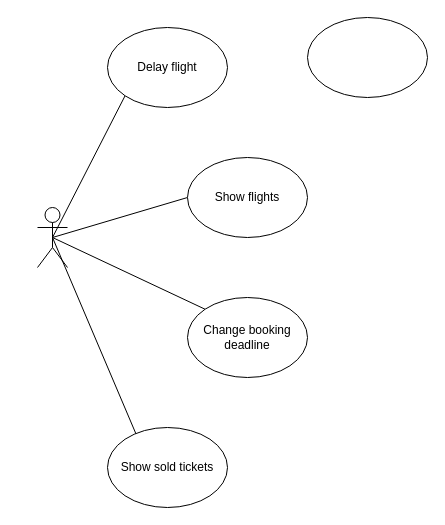
Image size: 445x525. Some labels were removed from this diagram. Here are the shapes that lost their labels. From the top down, the centre of each, then its label:
At (x=367, y=57): "Filter flights by date".
At (x=52, y=237): "Administrator".
